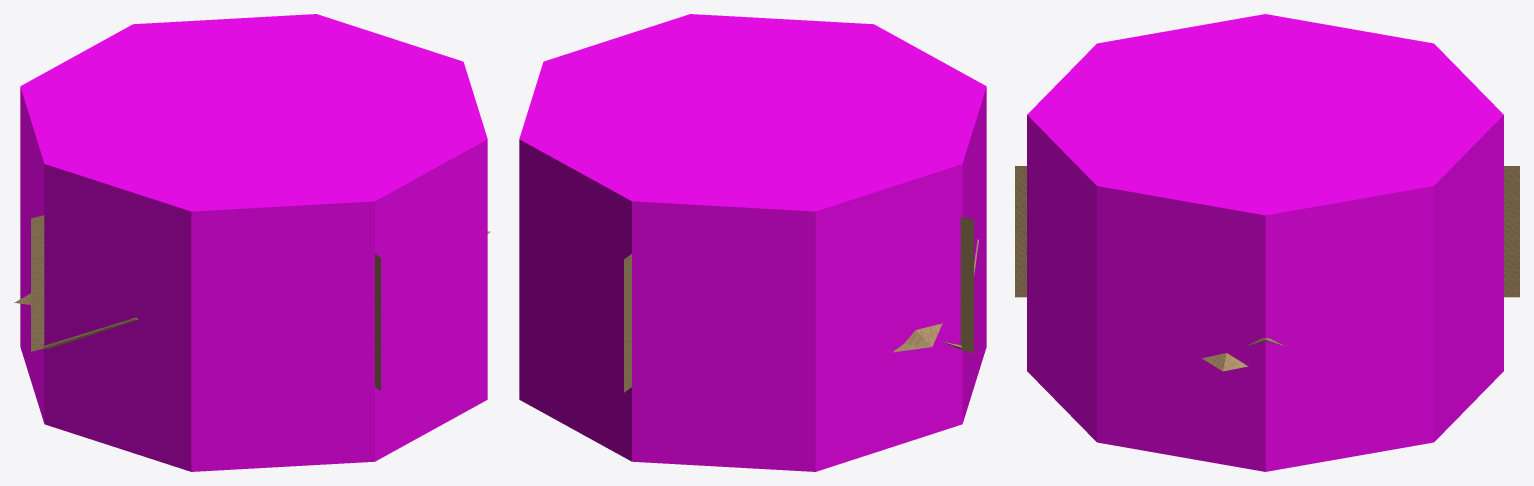
Rendered from rock_large_tan_a.dae.
3 views of the same model, side by side, from view 1: azimuth 30°, elevation 25°; view 2: azimuth 150°, elevation 25°; view 3: azimuth 270°, elevation 25° (orthographic).
Parts seen in each view (by area): view 1: Colmesh_rock-1, rock_large_tan_a_a50; view 2: Colmesh_rock-1, rock_large_tan_a_a50, rock_large_tan_a_a200; view 3: Colmesh_rock-1, rock_large_tan_a_a50.
Part boxes in pixels (bbox=[...]): Colmesh_rock-1: bbox=[20, 14, 487, 471]; rock_large_tan_a_a50: bbox=[31, 215, 380, 390]; Colmesh_rock-1: bbox=[519, 14, 986, 471]; rock_large_tan_a_a50: bbox=[624, 216, 973, 392]; rock_large_tan_a_a200: bbox=[892, 241, 978, 352]; Colmesh_rock-1: bbox=[1027, 14, 1503, 471]; rock_large_tan_a_a50: bbox=[1015, 166, 1519, 297].
Bounding box in the file's own units: 3.05 × 3.05 × 1.71.
Materials: 2 (1 with a texture image).
